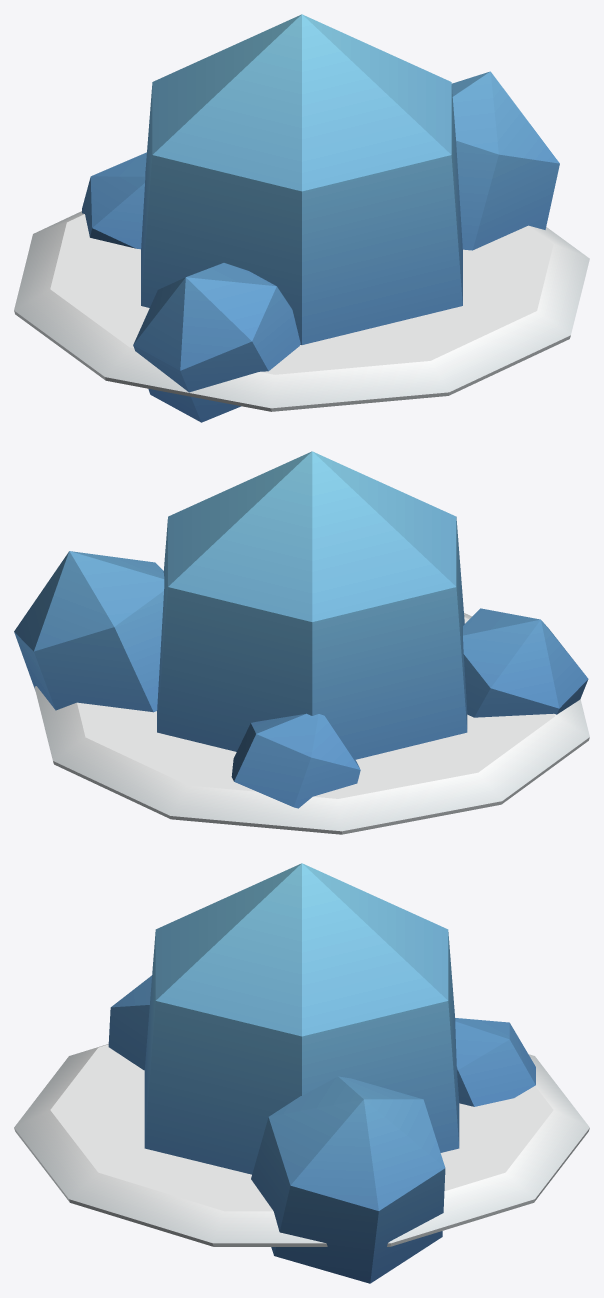
File: cristal.glb
The picture shows the model from 3 angles, top to bottom: view 1: azimuth 30°, elevation 25°; view 2: azimuth 150°, elevation 25°; view 3: azimuth 270°, elevation 25°; orthographic projection. The views are drawn at different scales.
Visible parts, largest first — view 1: cristal_corpo; view 2: cristal_corpo; view 3: cristal_corpo.
Boxes of the visible parts, left/top/right/bottom form: cristal_corpo: left=14, top=14, right=589, bottom=422; cristal_corpo: left=14, top=451, right=589, bottom=834; cristal_corpo: left=14, top=863, right=589, bottom=1283.
Bounding box in the file's own units: 1.95 × 1.14 × 1.94.
2 materials, 2 textured.
